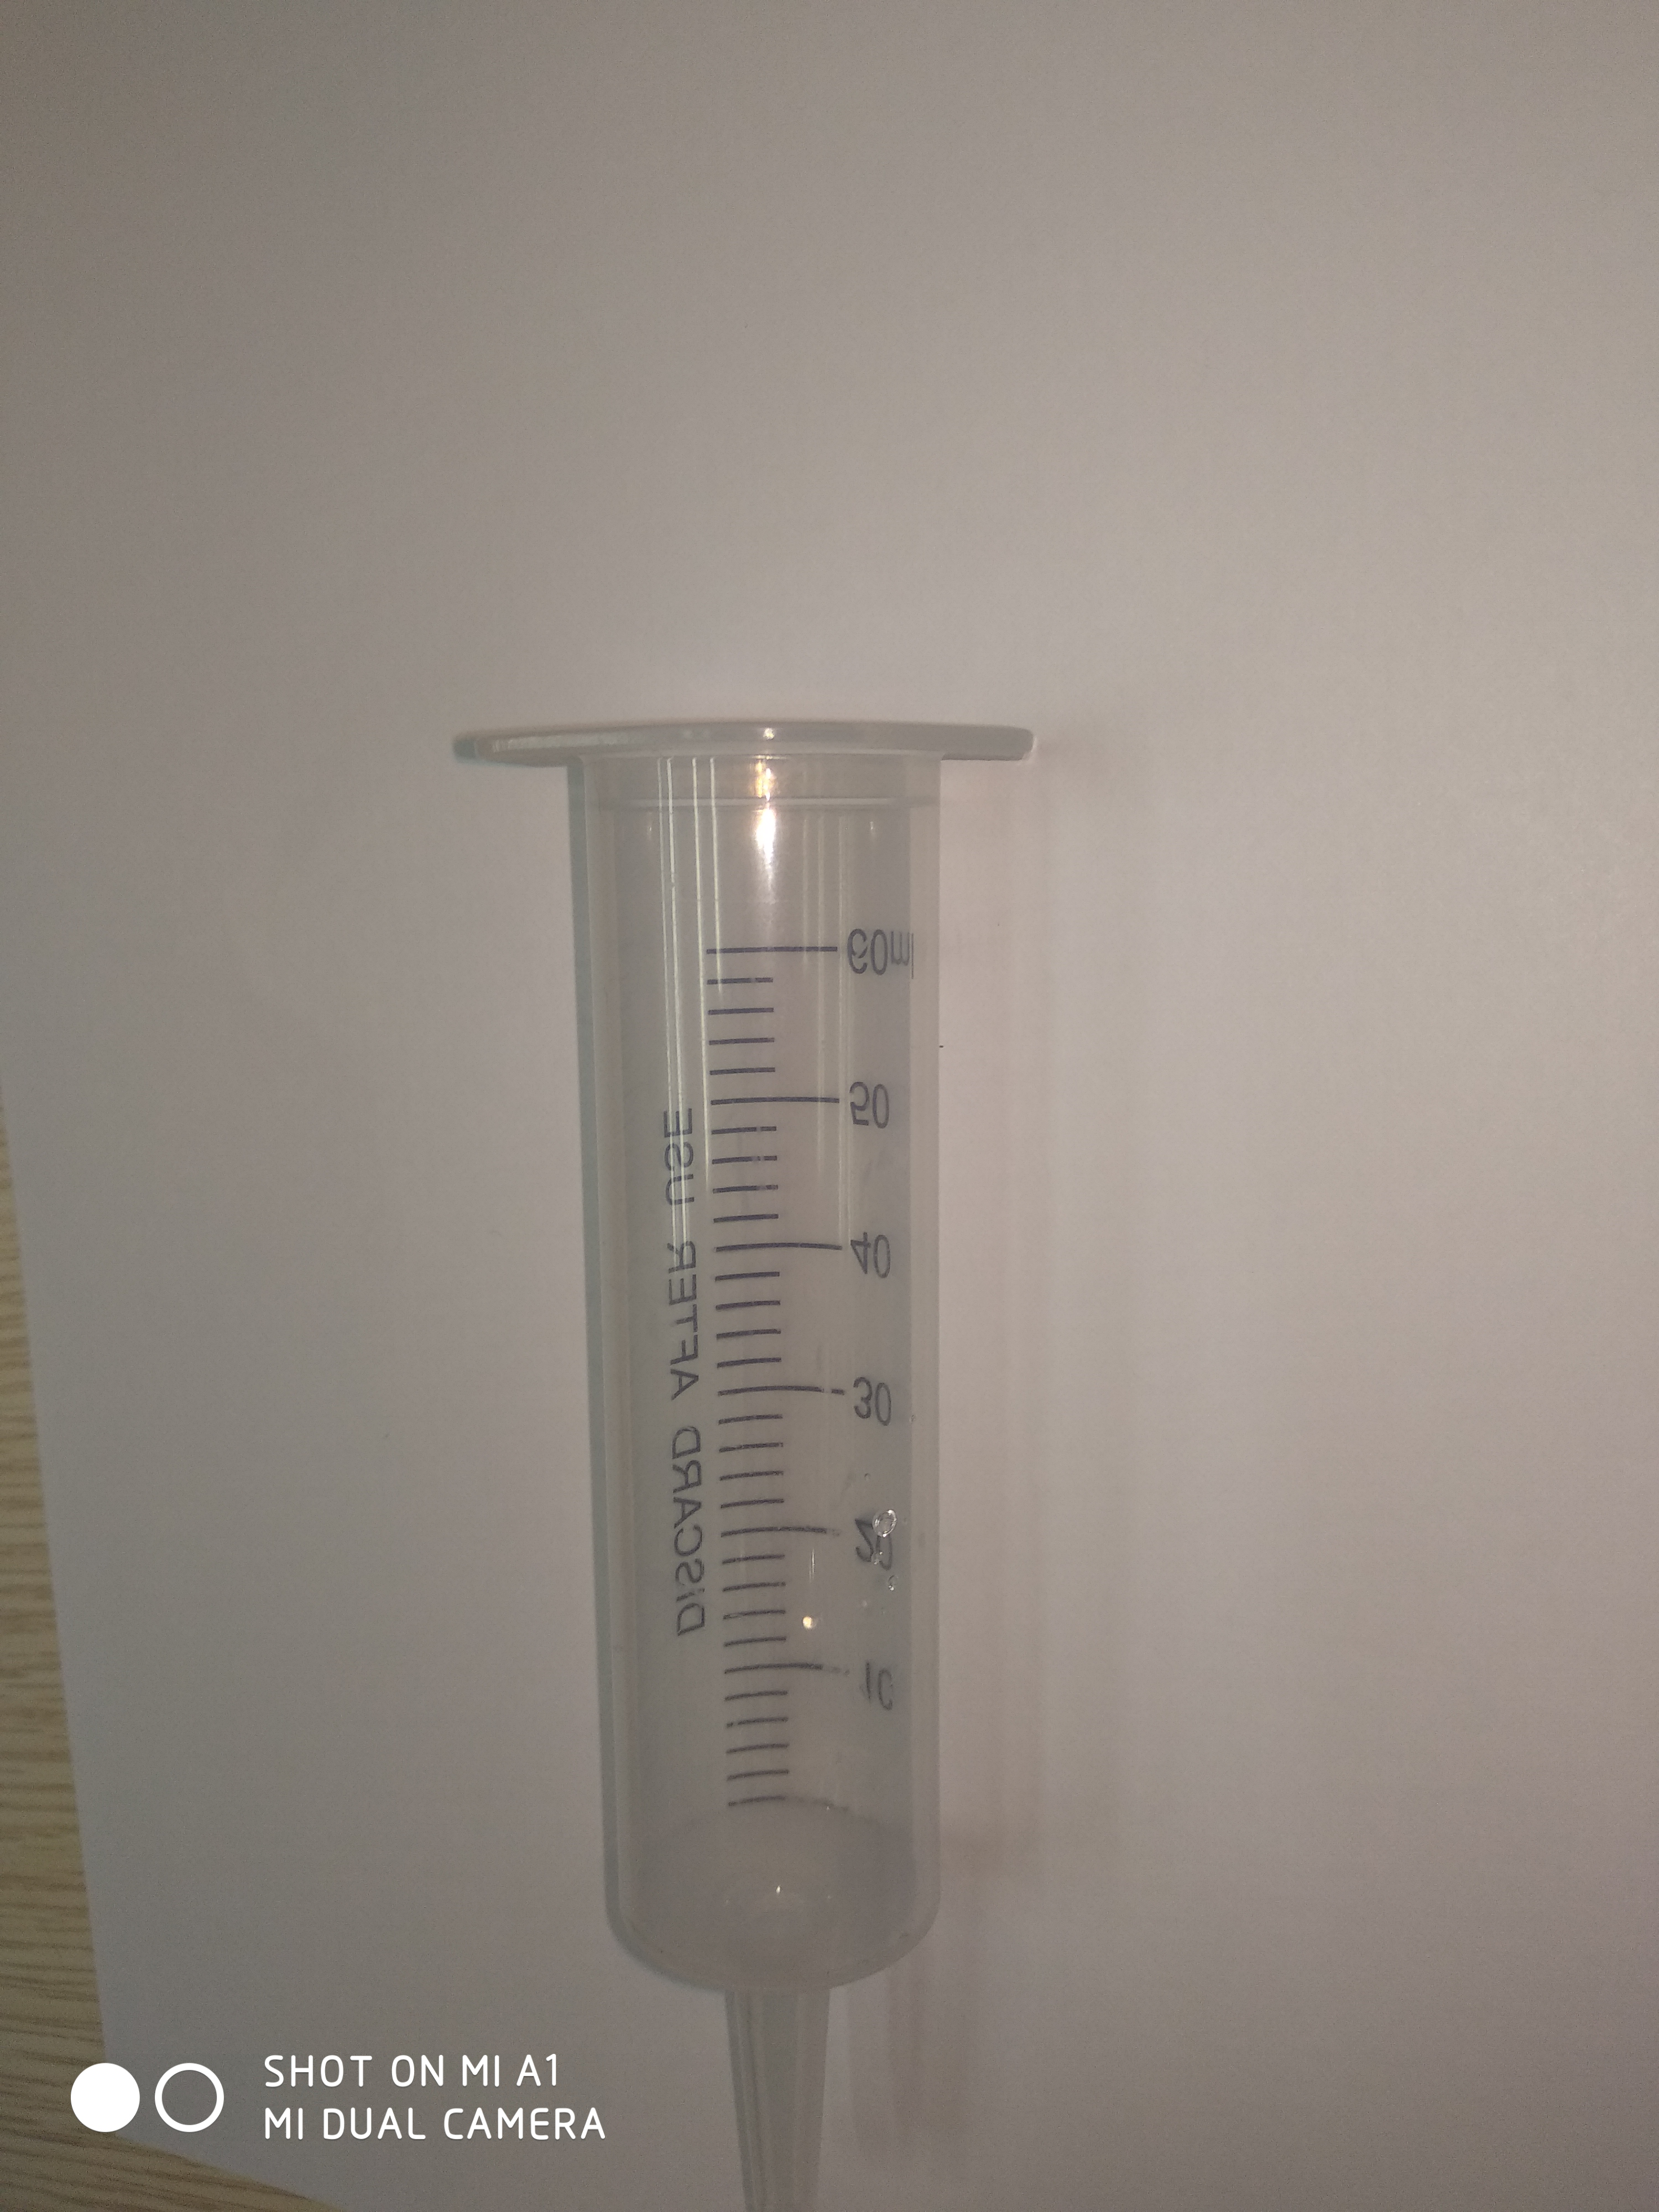syringe: (448, 712, 1051, 2209)
